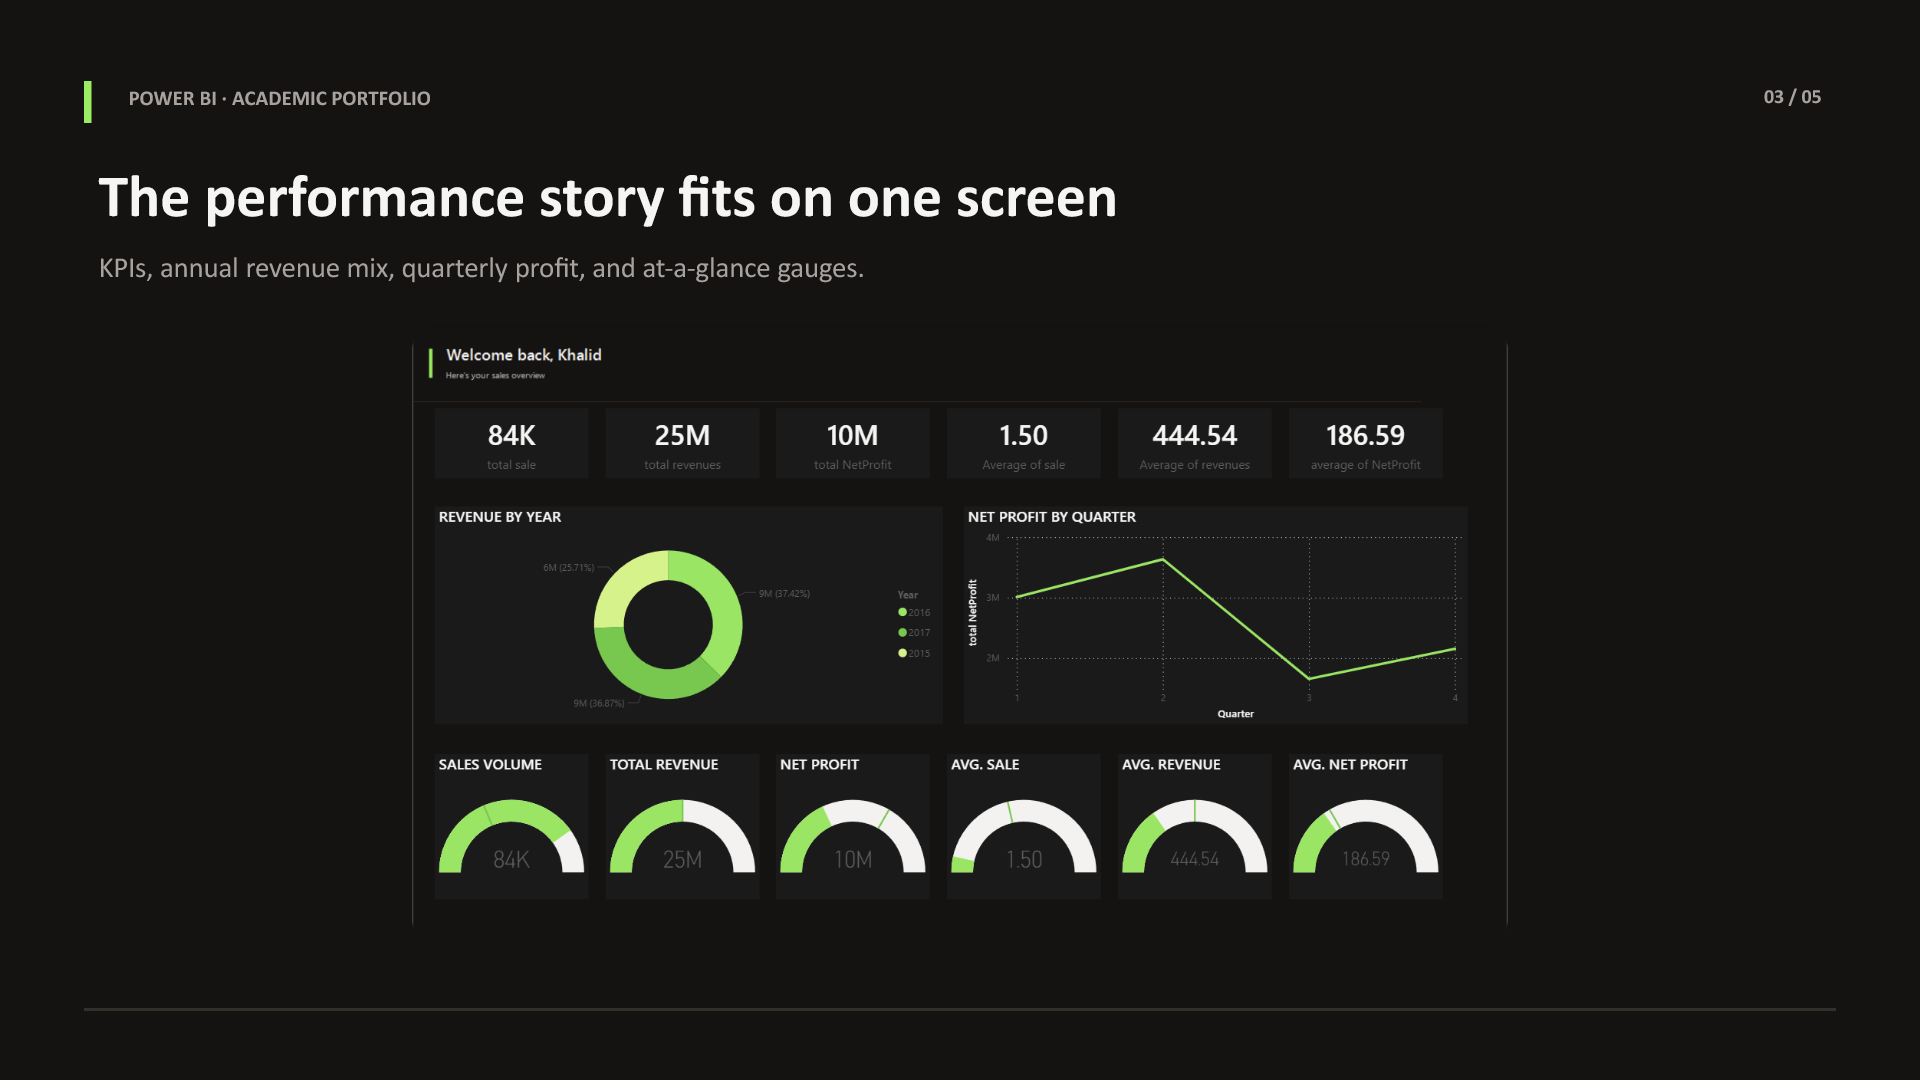

The dashboard page shown, as its layout file describes it:
{"tool":"powerbi","page":{"name":"SALES REPORT","canvas":[1280,720],"ordinal":0},"visuals":[{"type":"textbox","box":[544.4,13.1,290.9,67.7],"z":1000},{"type":"donutChart","title":"REVENUE BY YEAR","fields":{"Category":["Categories.CategoryName","Calendar.Year"],"Y":["all measures.total revenues"]},"box":[25,210,595,255],"z":2000},{"type":"lineChart","title":"NET PROFIT BY QUARTER","fields":{"Category":["Calendar.Quarter"],"Y":["all measures.total NetProfit"]},"box":[645,210,590,255],"z":3000},{"type":"card","fields":{"Values":["all measures.total sale"]},"box":[25,95,180,82],"z":4000},{"type":"card","fields":{"Values":["all measures.total revenues"]},"box":[225,95,180,82],"z":5000},{"type":"card","fields":{"Values":["all measures.total NetProfit"]},"box":[425,95,180,82],"z":6000},{"type":"card","fields":{"Values":["all measures.Average of sale"]},"box":[625,95,180,82],"z":7000},{"type":"card","fields":{"Values":["all measures.Average of revenues"]},"box":[825,95,180,82],"z":8000},{"type":"card","fields":{"Values":["all measures.average of NetProfit"]},"box":[1025,95,180,82],"z":9000},{"type":"gauge","title":"SALES VOLUME","fields":{"Y":["all measures.total sale"],"MinValue":["all measures.total sale min"],"MaxValue":["all measures.total sale max"],"TargetValue":["all measures.total sale target"]},"box":[25,500,180,170],"z":10000},{"type":"gauge","title":"TOTAL REVENUE","fields":{"Y":["all measures.total revenues"],"MinValue":["all measures.total revenues min"],"MaxValue":["all measures.total revenues max"],"TargetValue":["all measures.total revenues target"]},"box":[225,500,180,170],"z":11000},{"type":"gauge","title":"NET PROFIT","fields":{"Y":["all measures.total NetProfit"],"MinValue":["all measures.total NetProfit min"],"MaxValue":["all measures.total NetProfit max"],"TargetValue":["all measures.total NetProfit target"]},"box":[425,500,180,170],"z":12000},{"type":"gauge","title":"AVG. SALE","fields":{"Y":["all measures.Average of sale"],"MinValue":["all measures.Average of sale min"],"MaxValue":["all measures.Average of sale max"],"TargetValue":["all measures.Average of sale target"]},"box":[625,500,180,170],"z":13000},{"type":"gauge","title":"AVG. REVENUE","fields":{"Y":["all measures.Average of revenues"],"MinValue":["all measures.Average of revenues min"],"MaxValue":["all measures.Average of revenues max"],"TargetValue":["all measures.Average of revenues target"]},"box":[825,500,180,170],"z":14000},{"type":"gauge","title":"AVG. NET PROFIT","fields":{"Y":["all measures.average of NetProfit"],"MinValue":["all measures.average of NetProfit min"],"MaxValue":["all measures.average of NetProfit max"],"TargetValue":["all measures.average of NetProfit target"]},"box":[1025,500,180,170],"z":15000},{"type":"image","box":[0,0,1180,88],"z":16000}]}

Visuals, with their boxes in screenshot pixels (x1, y1, x2, y2), scaled from the page's 1280x720 canvas onto the 1920x1080 screenshot:
textbox: x1=817 y1=20 x2=1253 y2=121
"REVENUE BY YEAR" donutChart: x1=38 y1=315 x2=930 y2=698
"NET PROFIT BY QUARTER" lineChart: x1=968 y1=315 x2=1852 y2=698
card - all measures.total sale: x1=38 y1=142 x2=308 y2=266
card - all measures.total revenues: x1=338 y1=142 x2=608 y2=266
card - all measures.total NetProfit: x1=638 y1=142 x2=908 y2=266
card - all measures.Average of sale: x1=938 y1=142 x2=1208 y2=266
card - all measures.Average of revenues: x1=1238 y1=142 x2=1508 y2=266
card - all measures.average of NetProfit: x1=1538 y1=142 x2=1808 y2=266
"SALES VOLUME" gauge: x1=38 y1=750 x2=308 y2=1005
"TOTAL REVENUE" gauge: x1=338 y1=750 x2=608 y2=1005
"NET PROFIT" gauge: x1=638 y1=750 x2=908 y2=1005
"AVG. SALE" gauge: x1=938 y1=750 x2=1208 y2=1005
"AVG. REVENUE" gauge: x1=1238 y1=750 x2=1508 y2=1005
"AVG. NET PROFIT" gauge: x1=1538 y1=750 x2=1808 y2=1005
image: x1=0 y1=0 x2=1770 y2=132
